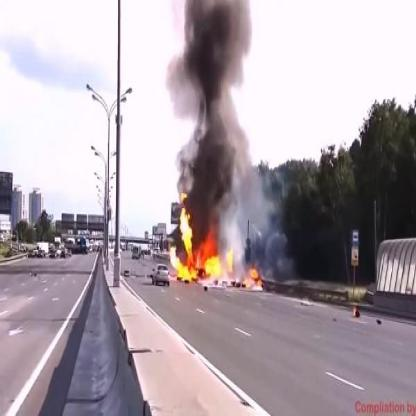fire: (168, 202, 236, 288), (242, 265, 264, 295)
